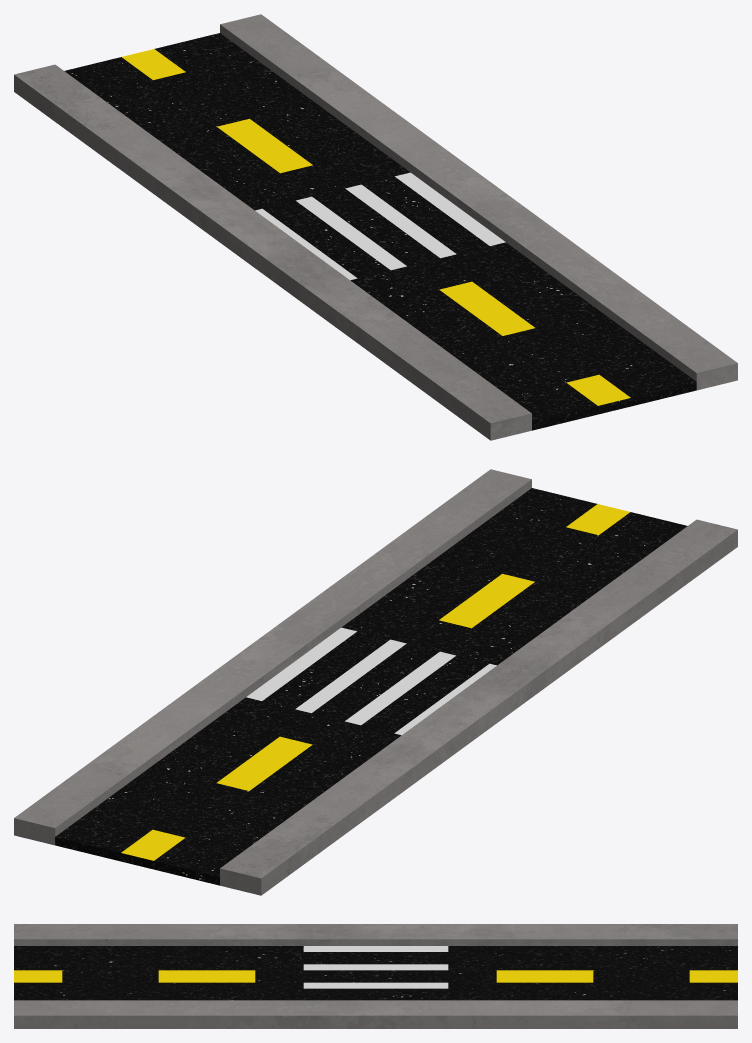
The model's file is road.fbx.
The picture shows the model from 3 angles, top to bottom: view 1: azimuth 30°, elevation 25°; view 2: azimuth 150°, elevation 25°; view 3: azimuth 270°, elevation 25°; orthographic projection. The views are drawn at different scales.
Parts seen in each view (by area): view 1: Road, Sidewalk, Sidewalk2; view 2: Road, Sidewalk, Sidewalk2; view 3: Road, Sidewalk2, Sidewalk.
Boxes of the visible parts, left/top/right/bottom form: Road: left=64, top=33, right=696, bottom=430; Sidewalk: left=14, top=64, right=531, bottom=440; Sidewalk2: left=220, top=14, right=737, bottom=390; Road: left=55, top=488, right=687, bottom=885; Sidewalk: left=220, top=519, right=737, bottom=895; Sidewalk2: left=14, top=469, right=531, bottom=845; Road: left=14, top=946, right=737, bottom=1000; Sidewalk2: left=14, top=1000, right=737, bottom=1028; Sidewalk: left=14, top=924, right=737, bottom=945.
Bounding box in the file's own units: 29.95 × 2 × 100.
